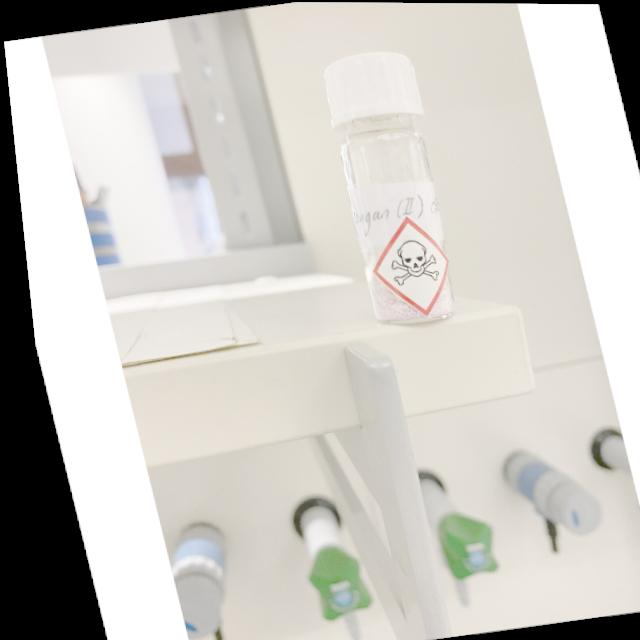acute toxicity: (378, 236, 439, 287)
